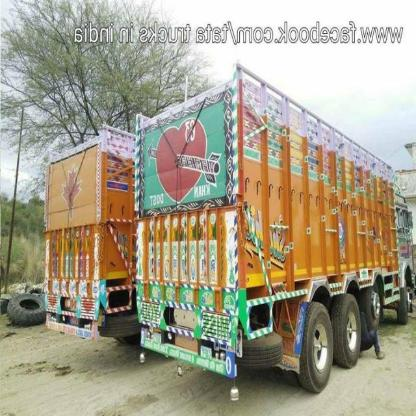truck: (131, 80, 413, 396), (38, 122, 144, 335)
